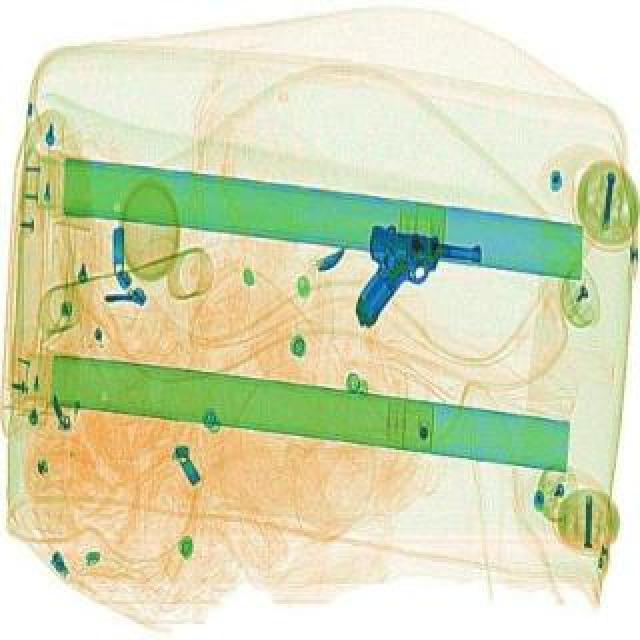gun: (348, 224, 484, 340)
